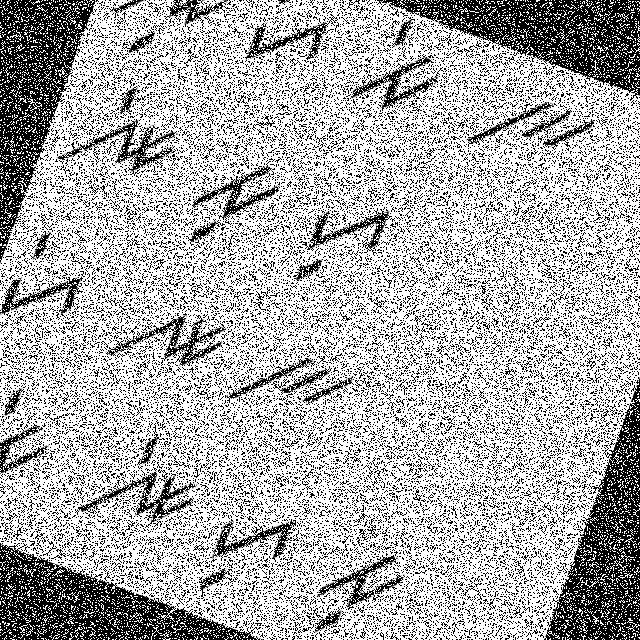he: (0, 222, 107, 346), (237, 0, 351, 87)
hu: (275, 180, 414, 319), (184, 489, 302, 620)
mbe: (332, 6, 462, 140), (0, 365, 83, 510)
mbu: (172, 129, 294, 267), (296, 520, 429, 639)
nda: (90, 271, 238, 398)
nde: (66, 410, 216, 557), (53, 64, 206, 205)
ndu: (91, 0, 241, 90)
